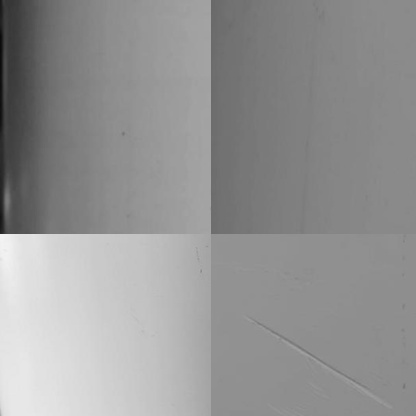sunshang: (243, 313, 390, 407)
